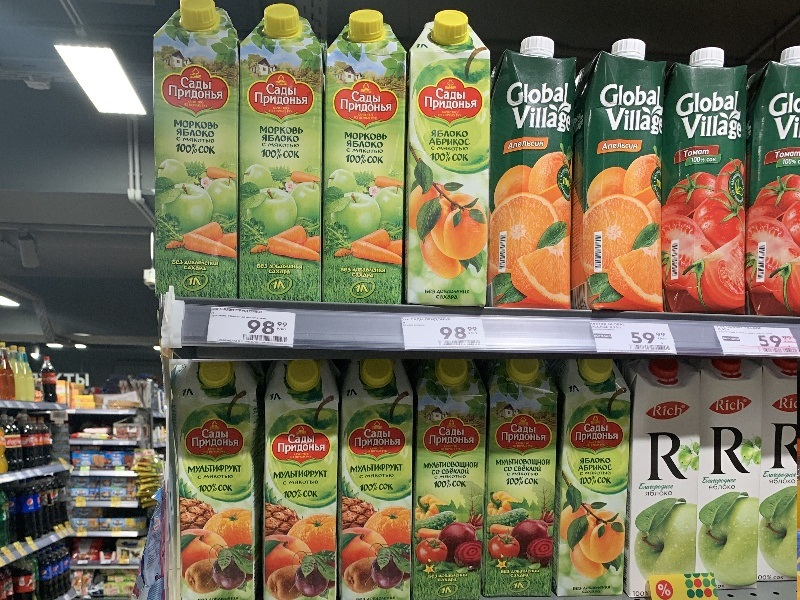juice: (139, 1, 256, 305), (225, 1, 338, 313), (395, 11, 504, 316), (313, 12, 419, 311), (566, 37, 675, 326), (482, 32, 589, 317), (657, 43, 760, 321), (163, 352, 271, 599), (252, 353, 347, 599), (332, 355, 421, 599), (620, 353, 699, 598), (479, 353, 558, 597), (414, 353, 493, 596), (691, 350, 766, 593), (562, 353, 632, 598)
